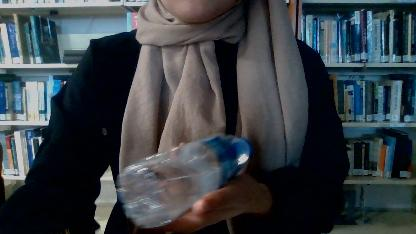Plastic Bottle: (115, 137, 252, 223)
